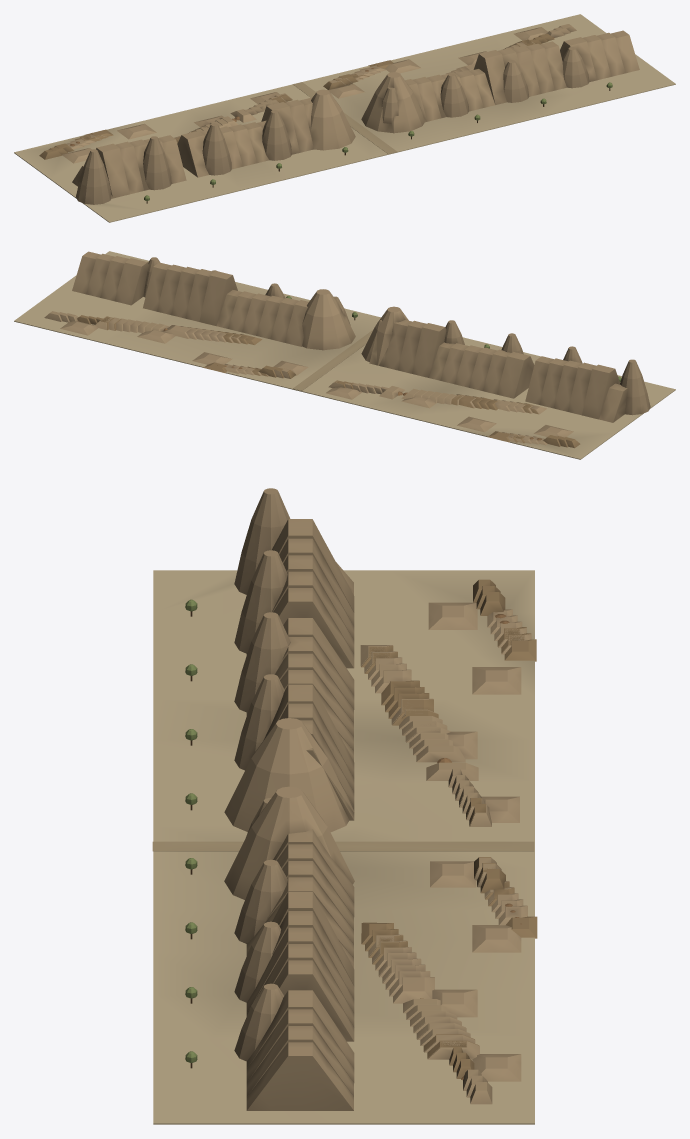
The model's file is gyaur-kala-walls-ruin.glb.
3 views of the same model, one above another, from view 1: azimuth 30°, elevation 25°; view 2: azimuth 150°, elevation 25°; view 3: azimuth 270°, elevation 25° (orthographic). The views are drawn at different scales.
Parts seen in each view (by area): view 1: p1_ruins, p0_ground; view 2: p1_ruins, p0_ground; view 3: p0_ground, p1_ruins.
Boxes of the visible parts, x1,y1,x2,y2 form: p1_ruins: [39, 24, 639, 204]; p0_ground: [14, 14, 675, 222]; p1_ruins: [44, 251, 650, 448]; p0_ground: [14, 251, 675, 459]; p0_ground: [153, 570, 534, 1124]; p1_ruins: [152, 488, 537, 1110].
Size of the model in its own units: 241 by 19.07 by 70.53.
